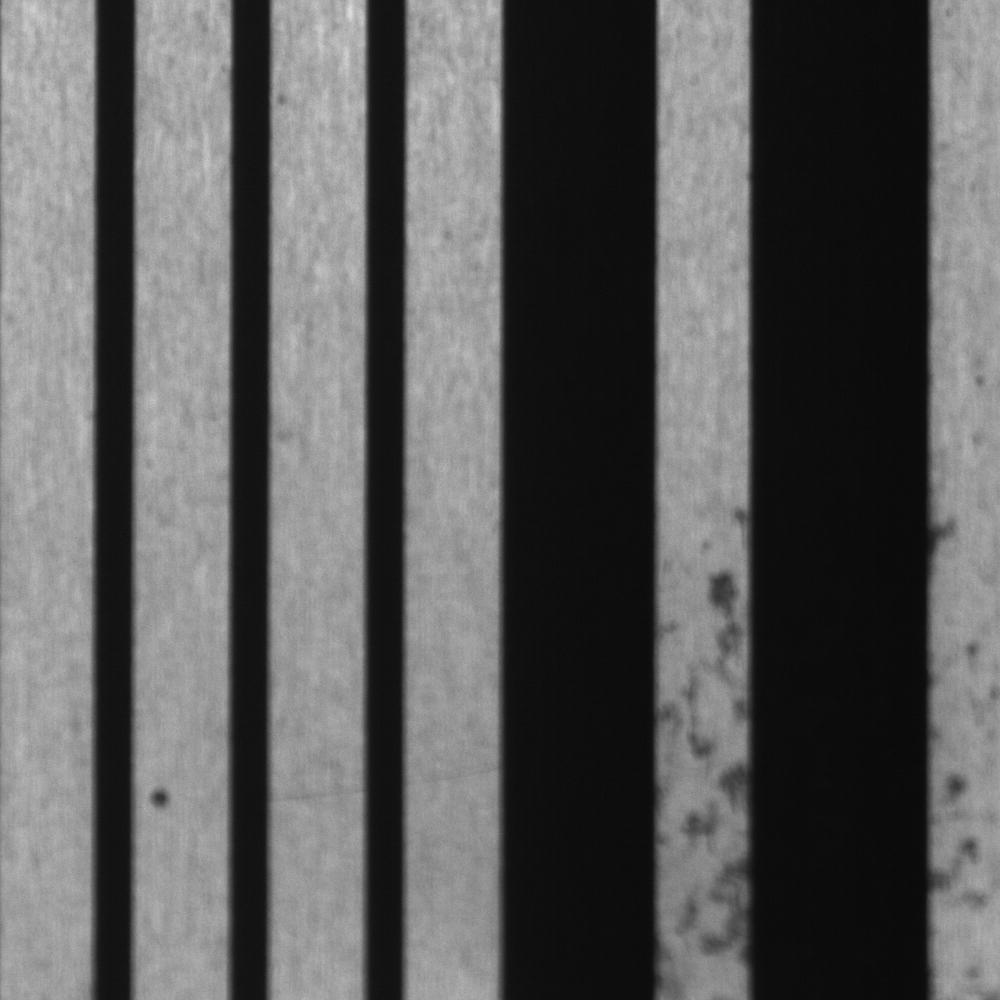Discolor: (657, 500, 748, 762), (659, 766, 752, 983), (927, 412, 995, 708), (927, 728, 1000, 995)
Pinhole: (140, 763, 186, 821)
Scar: (264, 773, 363, 816), (406, 752, 498, 798)
